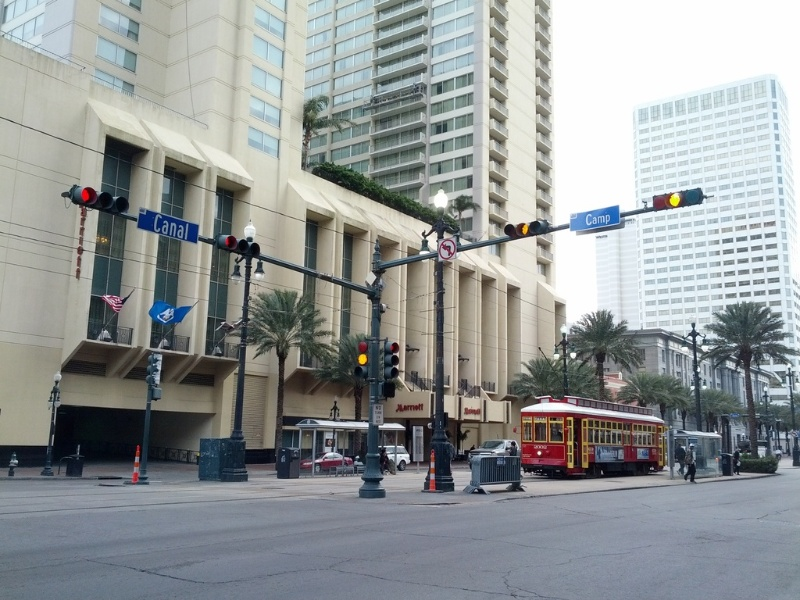no_left_turn: (436, 237, 457, 261)
red_light: (71, 178, 99, 212)
yellow_light: (513, 218, 534, 239), (665, 188, 684, 211), (354, 351, 370, 367)
